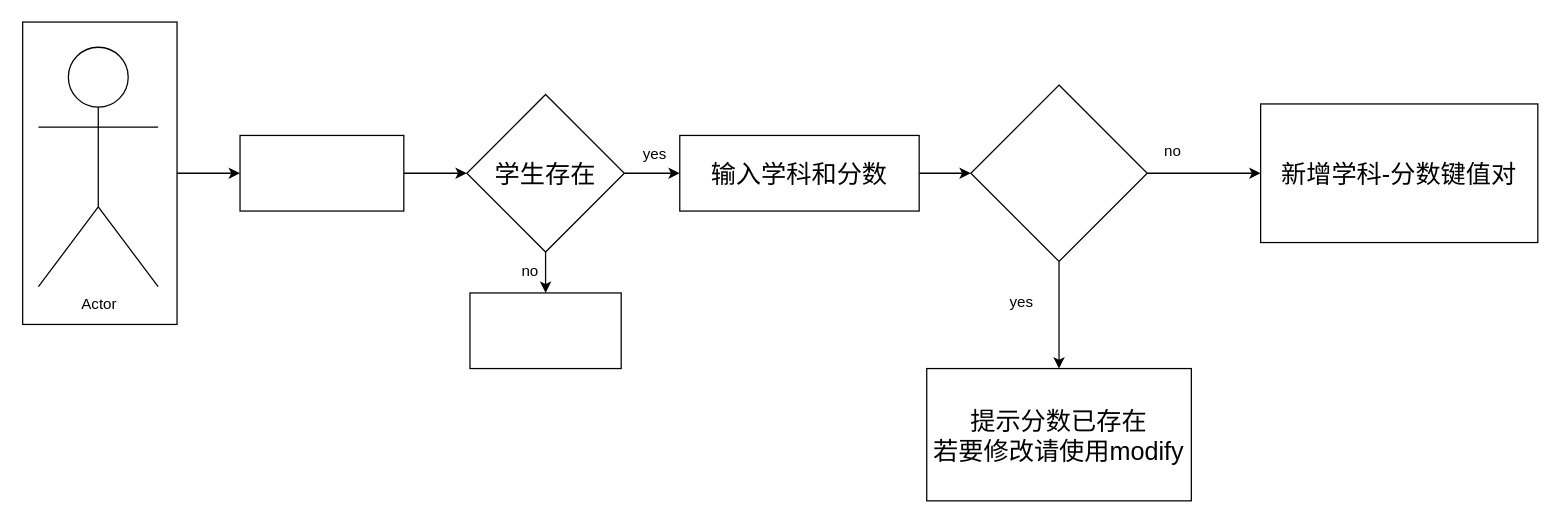
This 1560x523 diagram has some shape labels left out. Here are the shapes that lost their labels. From the top down, the centre of each, then its label:
At pixel 321 172: "输入学生学号".
At pixel 1058 172: "学科存在".
At pixel 545 330: "提示学生不存在".
